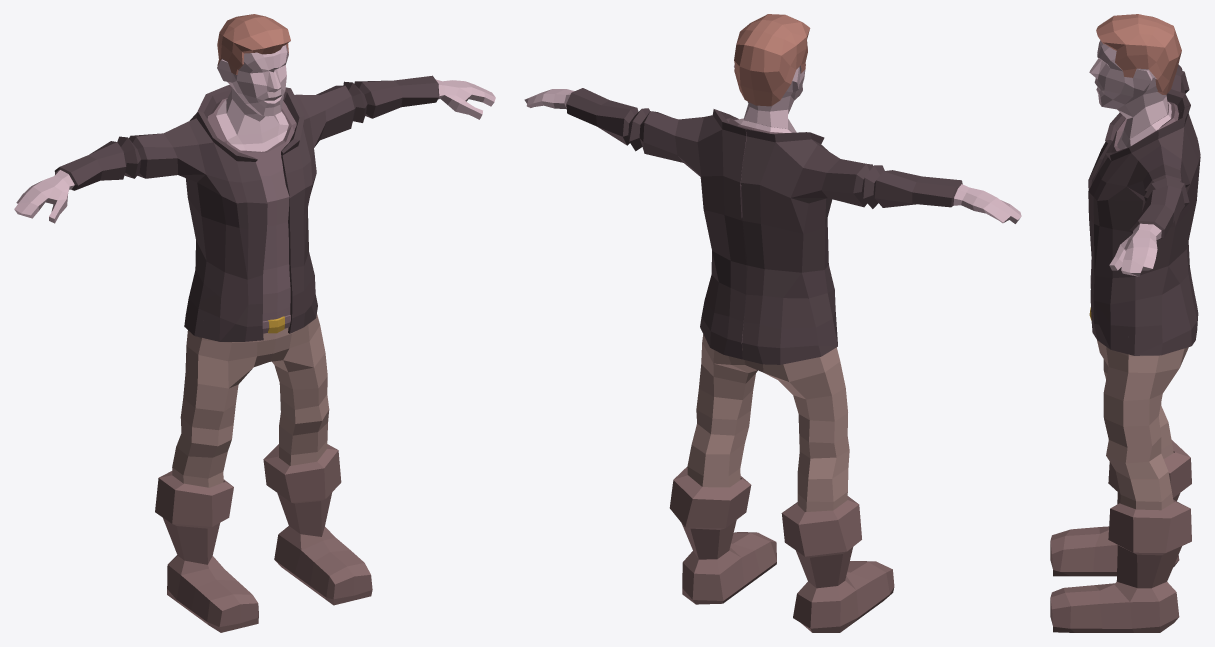
File: NPC.fbx
3 views of the same model, side by side, from view 1: azimuth 30°, elevation 25°; view 2: azimuth 150°, elevation 25°; view 3: azimuth 270°, elevation 25° (orthographic). The views are drawn at different scales.
Parts seen in each view (by area): view 1: Jacket, Boots, Pants, ShirtArms, Shirt, Hoofd, Hand, Haar, Body; view 2: Jacket, Boots, Pants, ShirtArms, Haar, Hand, Hoofd; view 3: Jacket, Boots, Pants, Haar, ShirtArms, Hoofd, Hand, Shirt, Body.
Part boxes in pixels (x1=…): Jacket: x1=184, y1=85, x2=317, y2=341; Boots: x1=155, y1=444, x2=372, y2=632; Pants: x1=172, y1=314, x2=329, y2=487; ShirtArms: x1=54, y1=75, x2=439, y2=190; Shirt: x1=207, y1=98, x2=296, y2=321; Hoofd: x1=217, y1=45, x2=288, y2=135; Hand: x1=14, y1=79, x2=495, y2=223; Haar: x1=217, y1=14, x2=290, y2=74; Body: x1=216, y1=99, x2=288, y2=151; Jacket: x1=697, y1=109, x2=837, y2=364; Boots: x1=669, y1=467, x2=894, y2=632; Pants: x1=687, y1=334, x2=849, y2=511; ShirtArms: x1=566, y1=88, x2=962, y2=208; Haar: x1=734, y1=14, x2=810, y2=106; Hand: x1=524, y1=89, x2=1021, y2=223; Hoofd: x1=734, y1=47, x2=807, y2=132; Jacket: x1=1088, y1=89, x2=1200, y2=355; Boots: x1=1050, y1=440, x2=1191, y2=632; Pants: x1=1097, y1=340, x2=1188, y2=510; Haar: x1=1096, y1=14, x2=1181, y2=94; ShirtArms: x1=1127, y1=64, x2=1190, y2=239; Hoofd: x1=1089, y1=40, x2=1168, y2=138; Hand: x1=1109, y1=223, x2=1161, y2=276; Shirt: x1=1090, y1=101, x2=1200, y2=283; Body: x1=1117, y1=102, x2=1171, y2=149.
Size of the model in its own units: 110 by 124 by 29.32.
